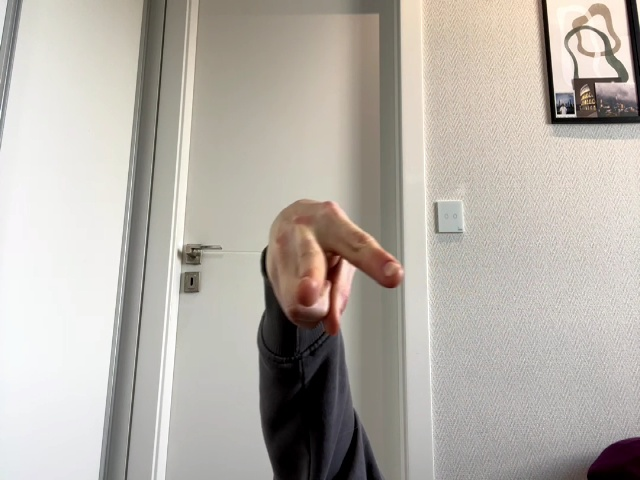U: (266, 199, 405, 337)
